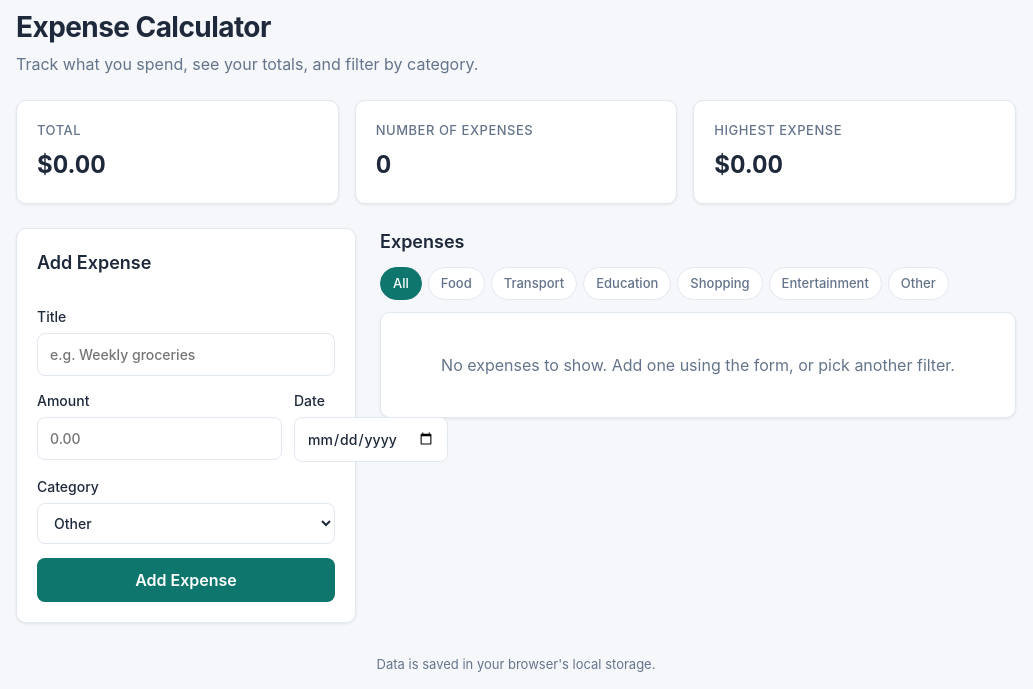
Test: App integration › adds an expense and updates the summary
Type "Lunch" into the field labelled "Title" at (186, 354), box [37,332,335,376]
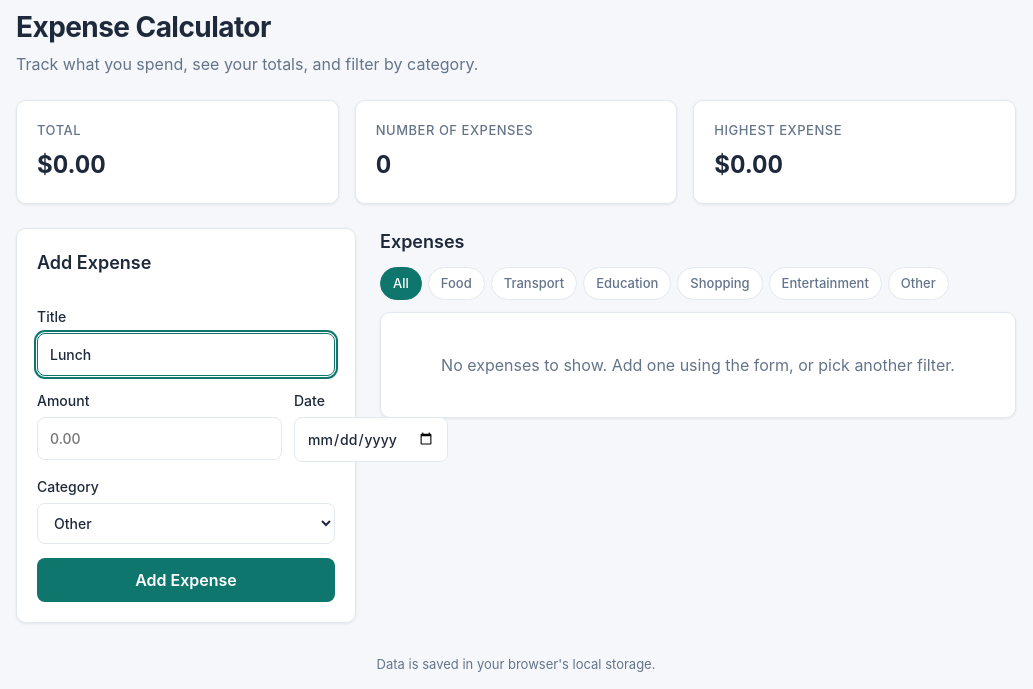
Type "12.25" into the number field labelled "Amount" at (160, 438), box [37,416,282,460]
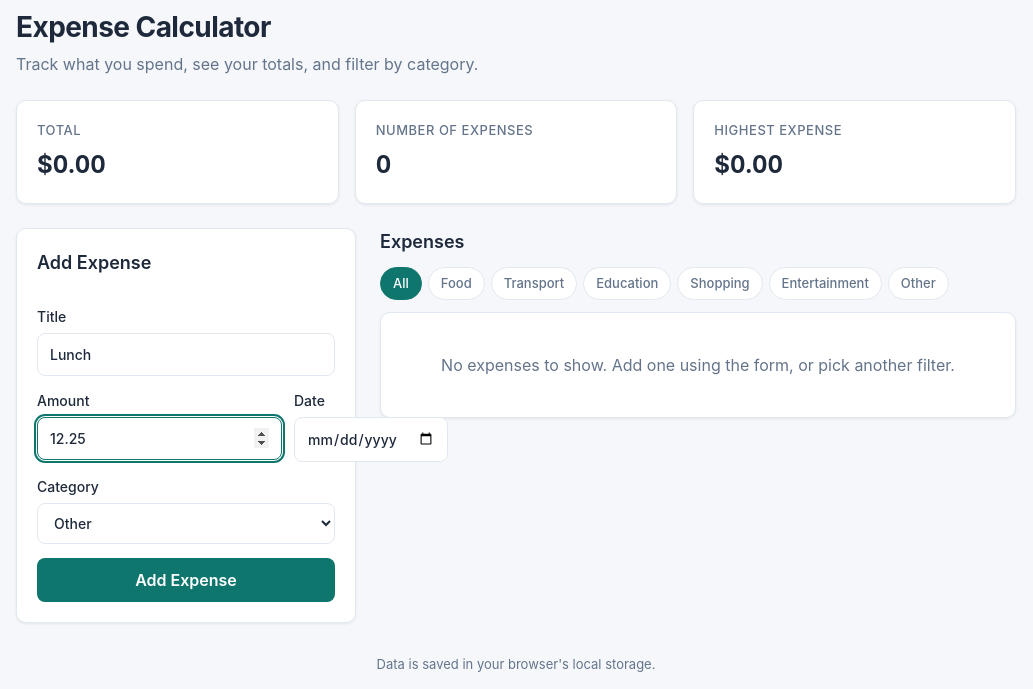
Select "Food" in the dropdown labelled "Category" at (186, 523), box [37,502,335,544]
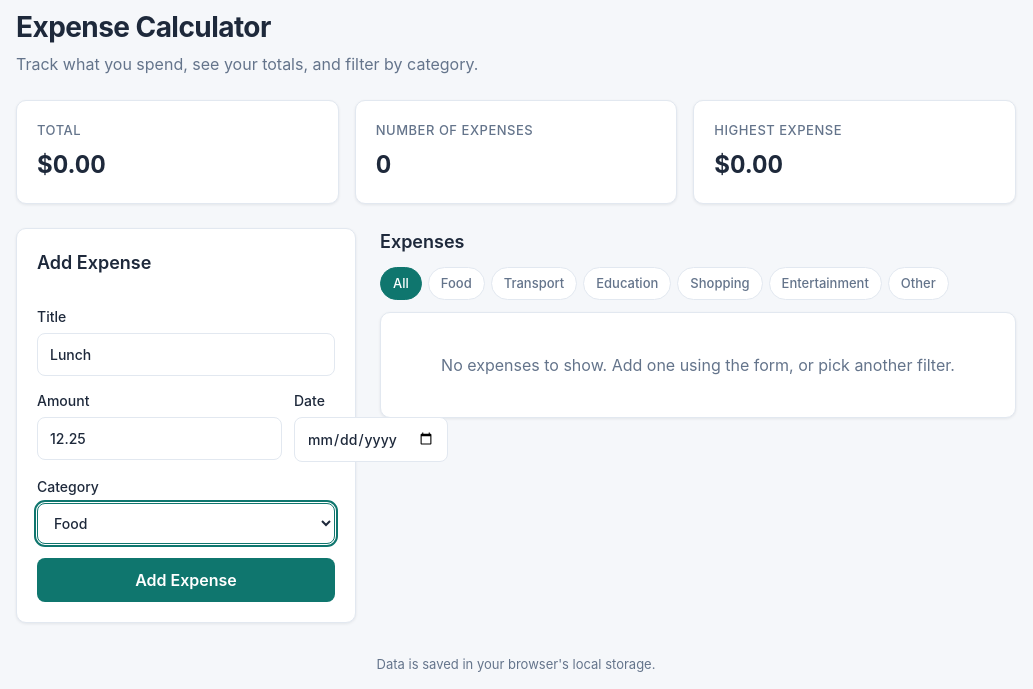
Type "2026-11-20" into the date field labelled "Date" at (371, 439), box [294,416,448,462]
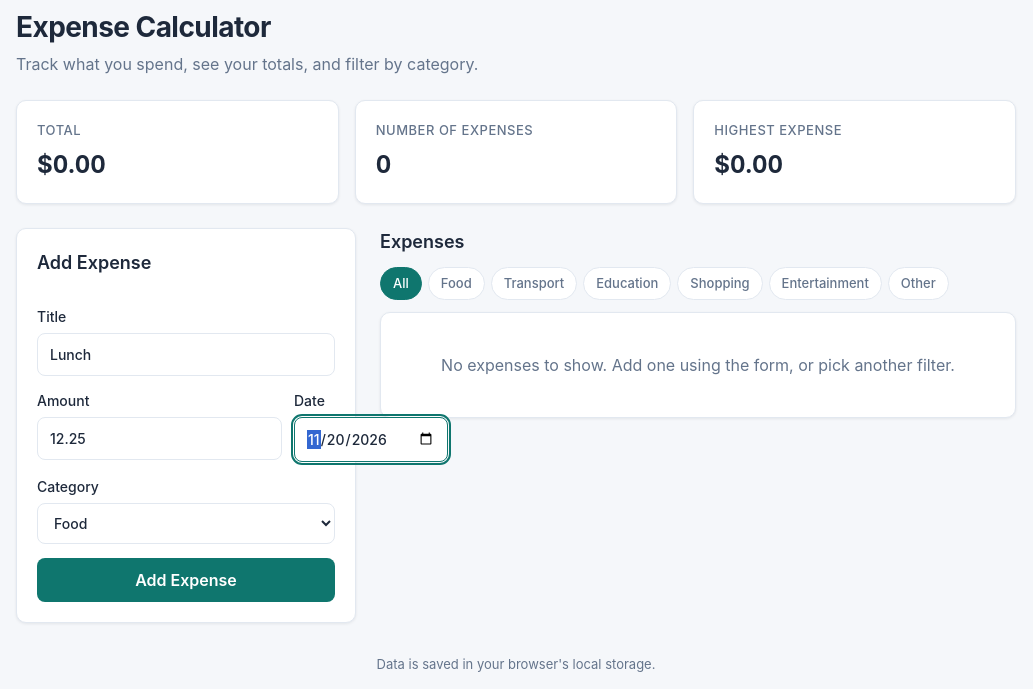
Click the button "Add Expense" at (186, 580), box [37,558,335,602]
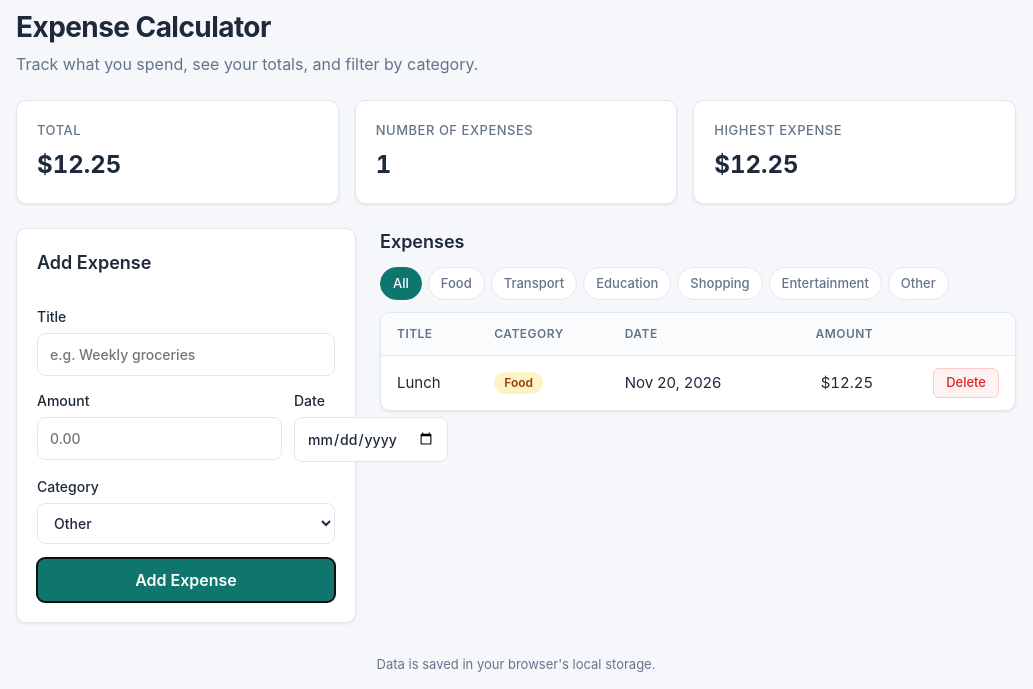
Expected: the text "$12.25" is shown 3 times, [37,150,121,178]; [714,150,798,178]; [774,356,889,410]
Now the text "Lunch" is shown, box [381,356,478,410]
